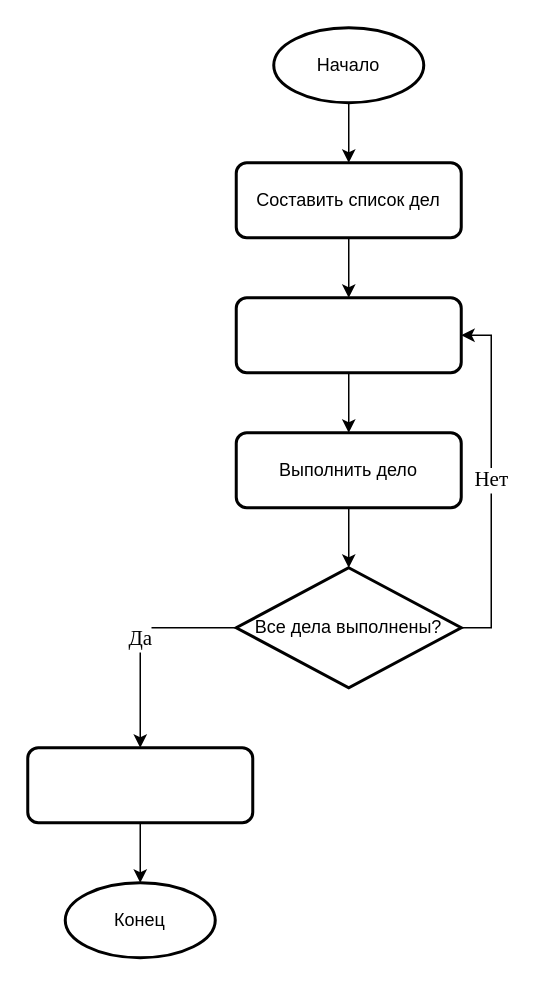
Image size: 533x984. Some labels were removed from this diagram. The shapes that lost their labels are listed below. From the top down, each one's centre as x and y in pixels, then its label:
At [348,335]: "Выбрать очередное дело".
At [140,785]: "Начать отдыхать".
